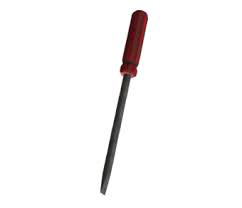screwdriver: (99, 8, 141, 201)
